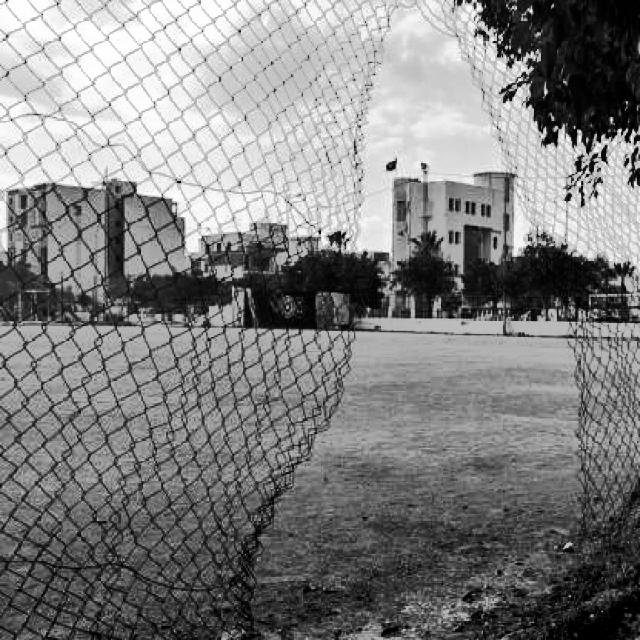anomaly-fence: (234, 0, 631, 640)
